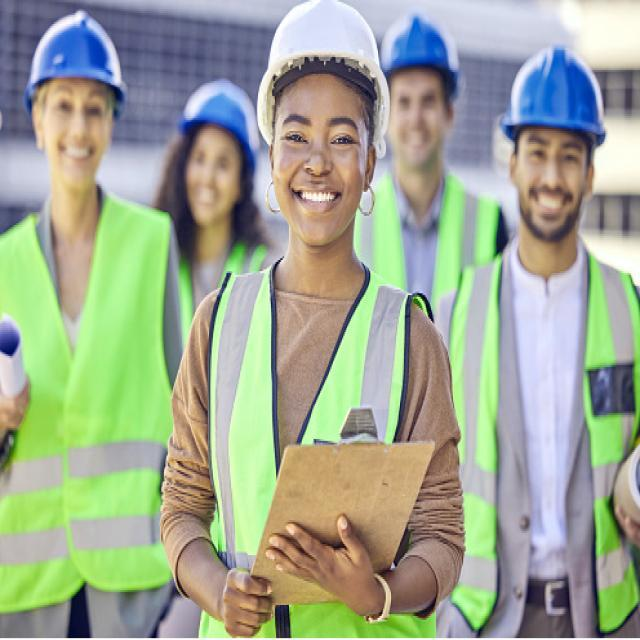hard_hat: (252, 0, 392, 247), (501, 41, 610, 247), (21, 5, 127, 175), (372, 7, 466, 179), (169, 74, 258, 252)
vest: (197, 251, 441, 639), (0, 193, 219, 619), (433, 249, 640, 640), (344, 173, 504, 468), (146, 233, 280, 495)
